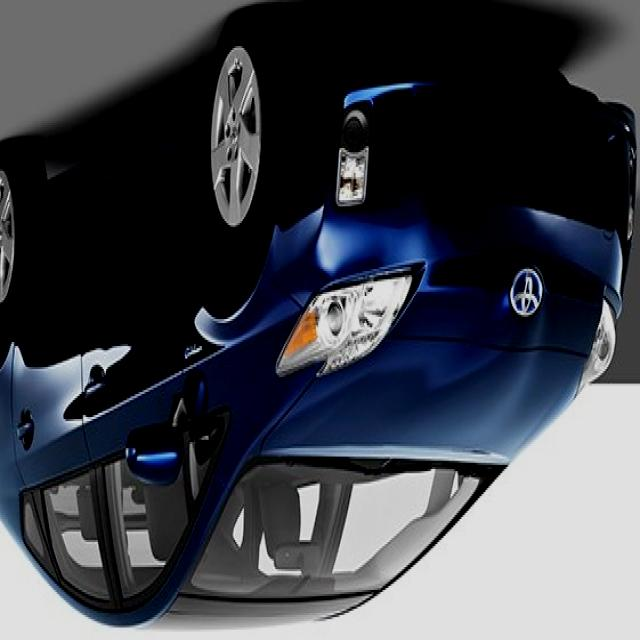blue: (0, 2, 628, 640)
